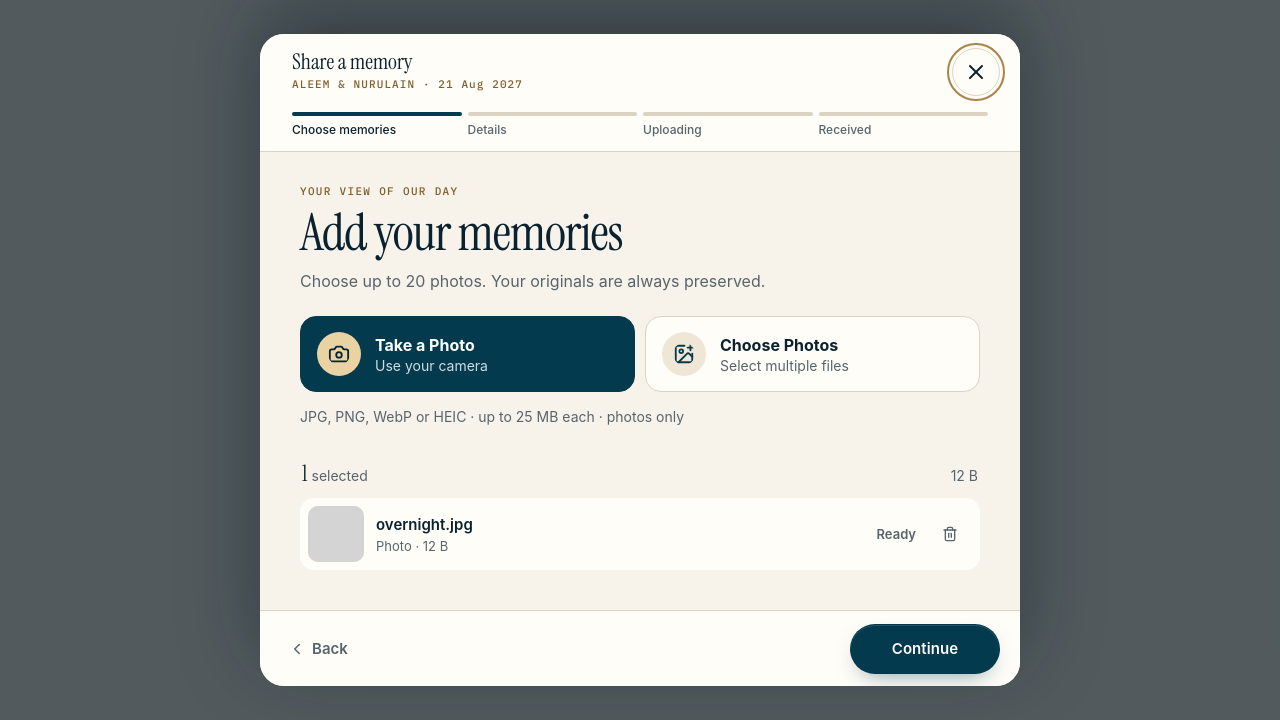
Test: day-aware upload preparation › rechecks the date after derivative generation and preserves files for review when it changed
What coordinates should you click on to do the following:
click the button "Continue"
I would click on:
 (925, 649)
Its box is [850,624,1000,674].
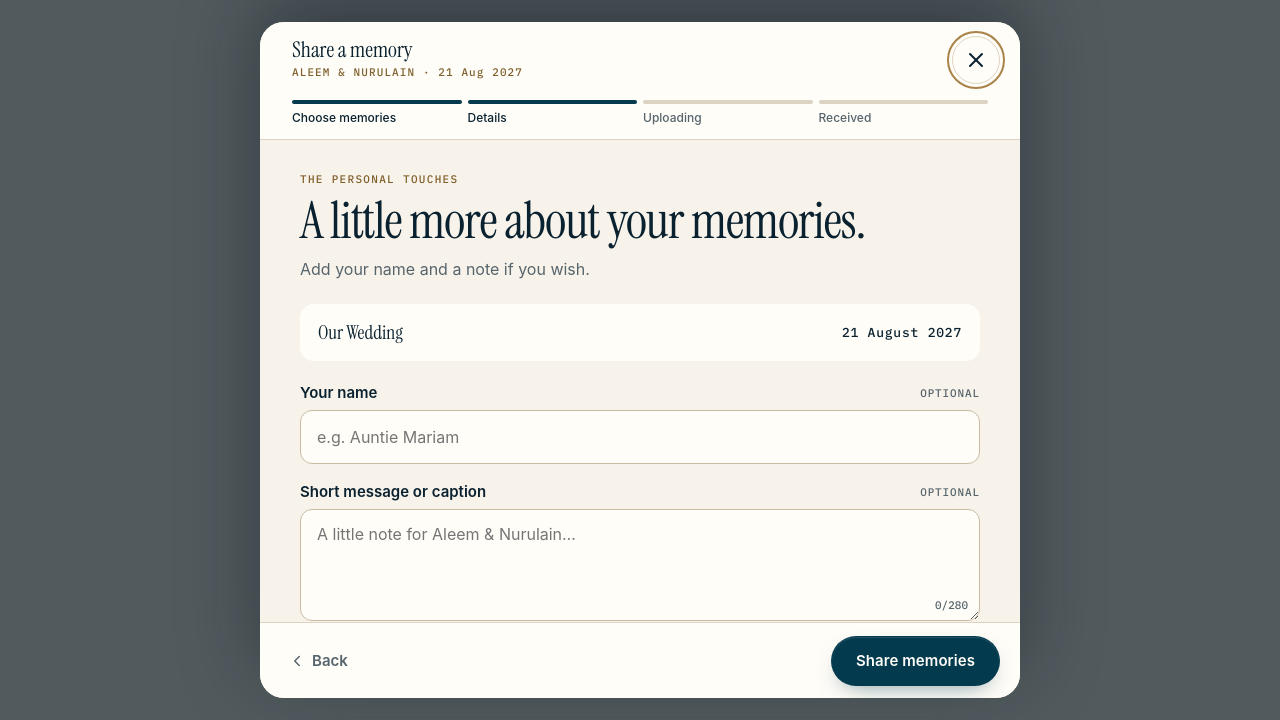
Result: the heading "A little more about your memories." is shown at [300,195,920,247]
What coordinates should you click on to do the following:
click the button "Share memories"
I would click on:
 (916, 661)
Its box is [831,636,1000,686].
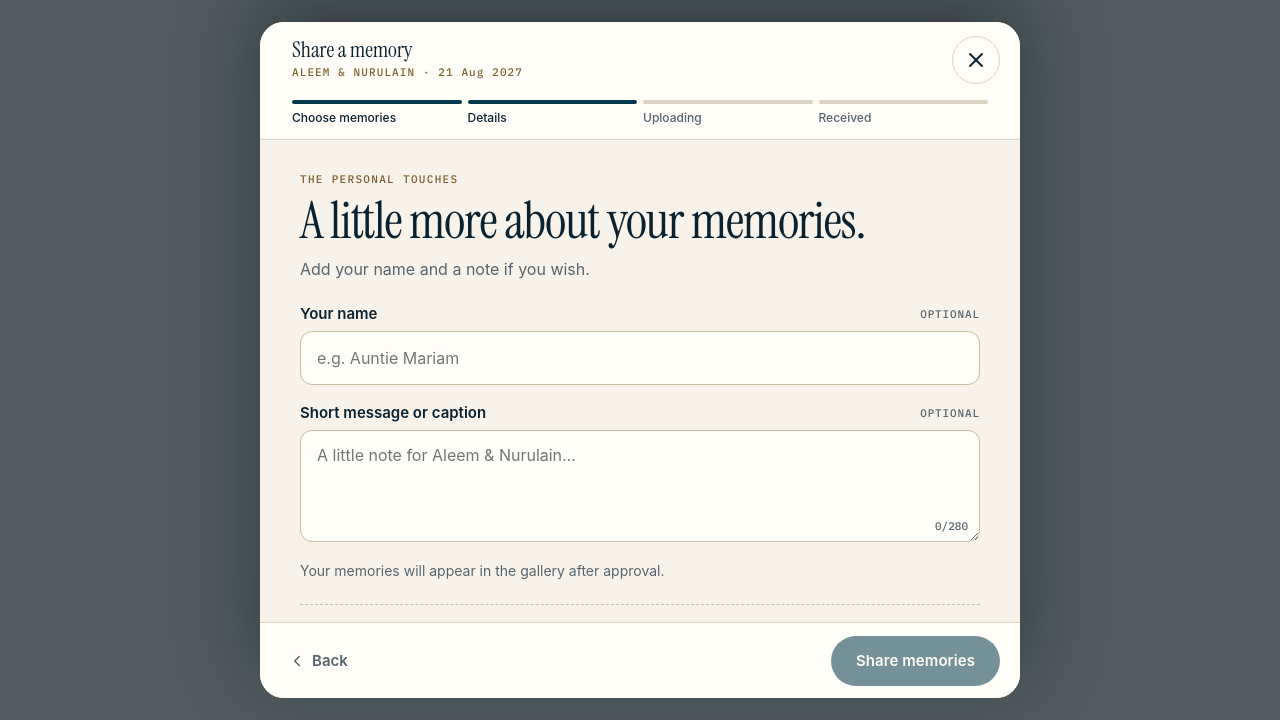
Result: the heading "A little more about your memories." is shown at [300,195,920,247]
What coordinates should you click on to do the following:
click the button "Back"
I would click on:
 (318, 661)
Its box is [280,637,356,685].
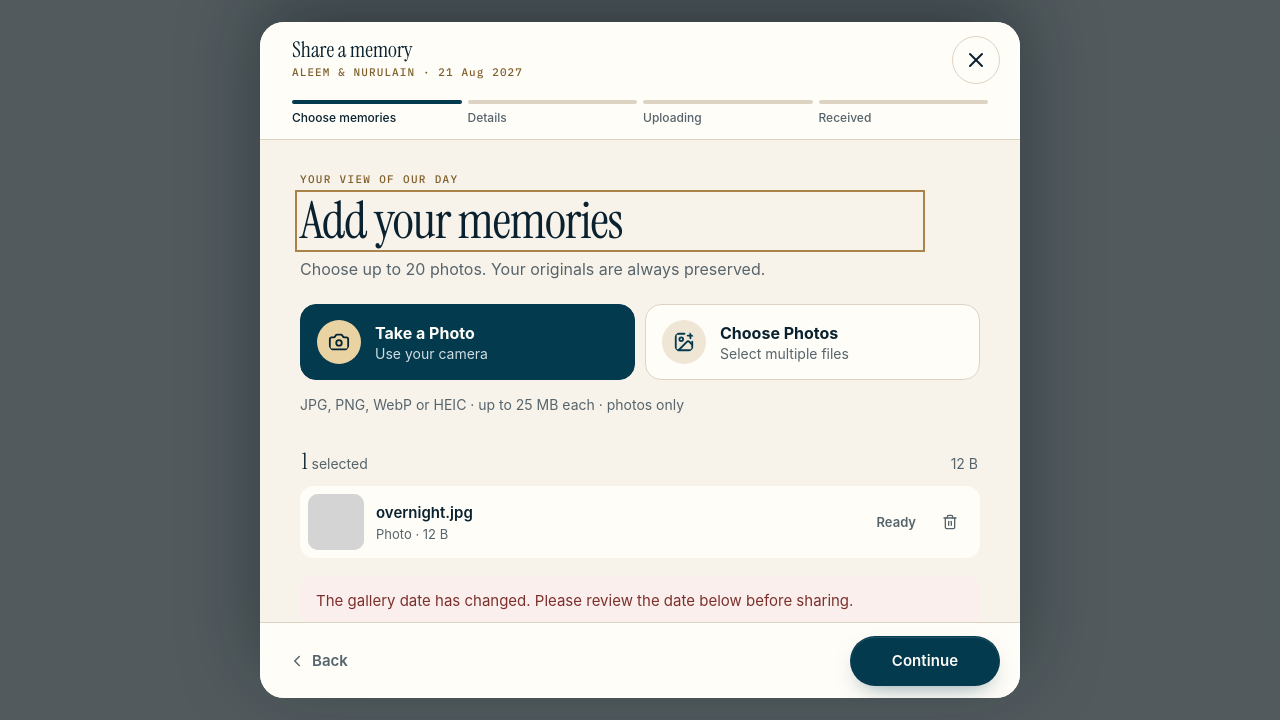
Result: the text "overnight.jpg" is shown at [376,502,473,522]
